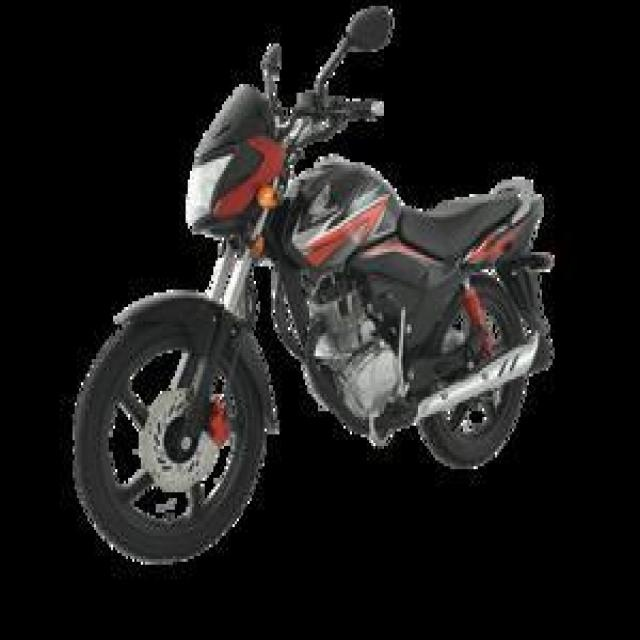motorcycle: (61, 0, 567, 573)
